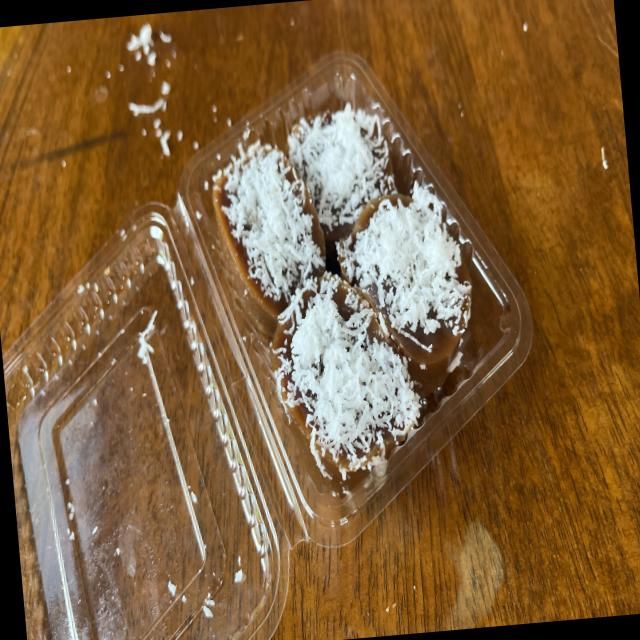Kuih lompang: (271, 272, 420, 492), (336, 184, 471, 396), (212, 140, 325, 315), (287, 101, 395, 272)
